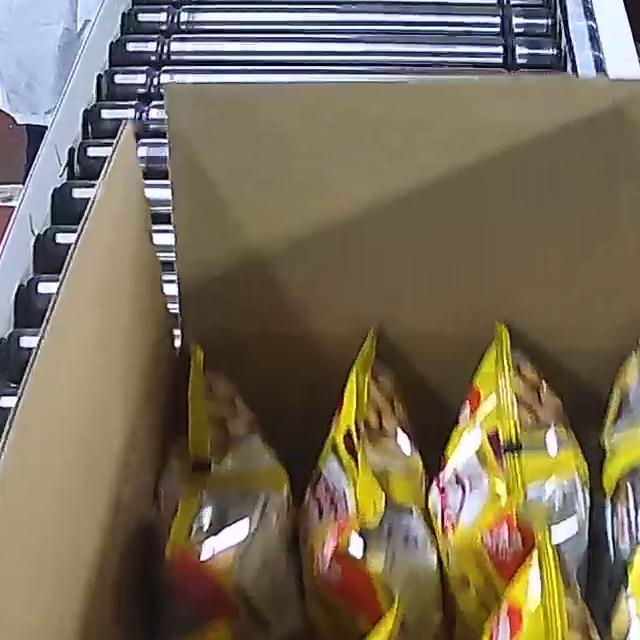salted: (160, 335, 640, 640)
